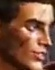kevin: (3, 0, 48, 69)
